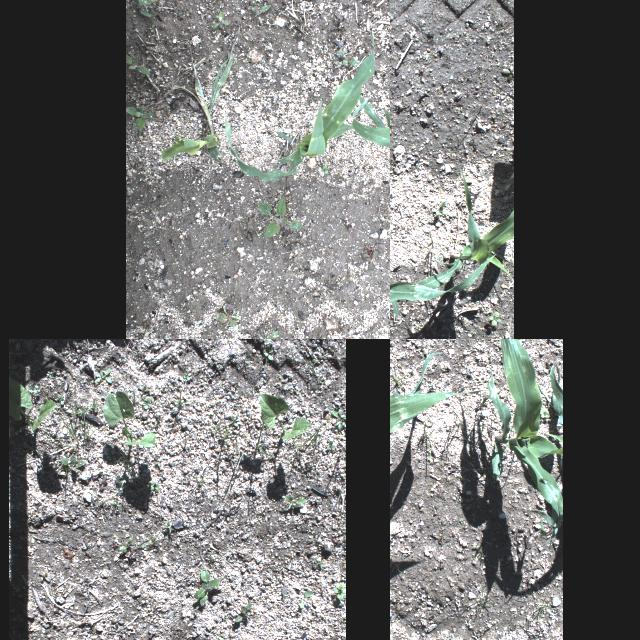crop: (223, 31, 374, 182), (481, 339, 563, 538), (390, 339, 486, 465), (418, 170, 514, 292), (390, 142, 445, 317), (162, 25, 240, 139), (347, 77, 390, 161), (104, 391, 156, 447), (8, 377, 58, 431), (259, 394, 311, 440), (159, 133, 223, 163), (542, 364, 562, 426), (544, 432, 562, 441), (549, 448, 563, 456)
weed: (43, 391, 83, 454), (288, 415, 332, 463), (256, 196, 302, 238), (64, 384, 98, 426), (87, 477, 123, 513), (467, 584, 498, 618), (212, 422, 248, 451), (156, 384, 200, 406), (194, 570, 220, 606), (126, 105, 160, 132), (257, 422, 277, 458), (216, 302, 240, 328), (420, 422, 434, 462), (126, 54, 150, 76), (59, 456, 85, 476), (250, 5, 272, 28), (390, 366, 407, 395), (136, 530, 166, 546), (536, 598, 554, 624), (74, 422, 96, 441), (362, 244, 378, 270), (338, 49, 359, 67), (308, 51, 322, 78), (209, 11, 229, 29), (115, 452, 131, 473), (130, 388, 148, 406), (330, 410, 346, 430), (286, 494, 306, 510), (192, 472, 208, 491), (526, 619, 540, 640), (94, 368, 112, 384), (235, 603, 251, 621), (454, 412, 464, 436), (434, 200, 448, 217), (253, 330, 279, 339), (118, 537, 134, 551), (334, 583, 346, 601), (299, 590, 311, 608), (138, 396, 152, 410), (488, 310, 500, 326), (502, 65, 514, 81), (160, 519, 173, 533), (264, 344, 274, 360), (473, 546, 485, 558), (320, 164, 330, 176), (148, 480, 160, 490), (138, 385, 150, 395), (38, 572, 50, 582), (316, 558, 326, 568), (229, 416, 239, 426), (154, 455, 162, 467), (540, 409, 550, 418), (182, 372, 190, 382), (327, 440, 335, 450), (216, 632, 226, 640), (392, 566, 402, 574), (28, 386, 40, 392), (428, 382, 436, 390), (148, 24, 154, 34), (57, 394, 63, 404), (193, 608, 199, 616), (372, 217, 378, 223), (46, 372, 52, 378), (270, 15, 274, 22), (256, 232, 262, 236), (294, 50, 298, 54), (306, 207, 308, 213)
